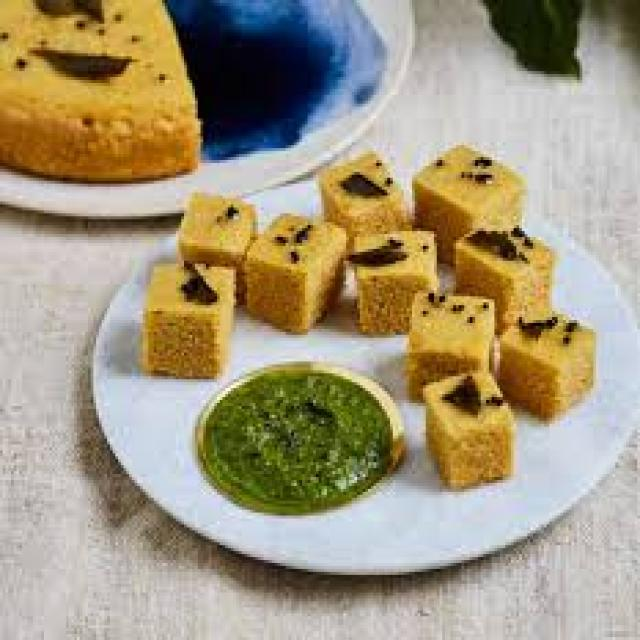ROTI: (412, 145, 525, 258), (244, 213, 346, 332), (456, 225, 552, 332), (426, 370, 514, 486), (143, 264, 233, 373), (500, 314, 593, 418), (412, 290, 489, 397), (354, 234, 437, 332), (324, 151, 404, 234), (181, 193, 253, 264)
